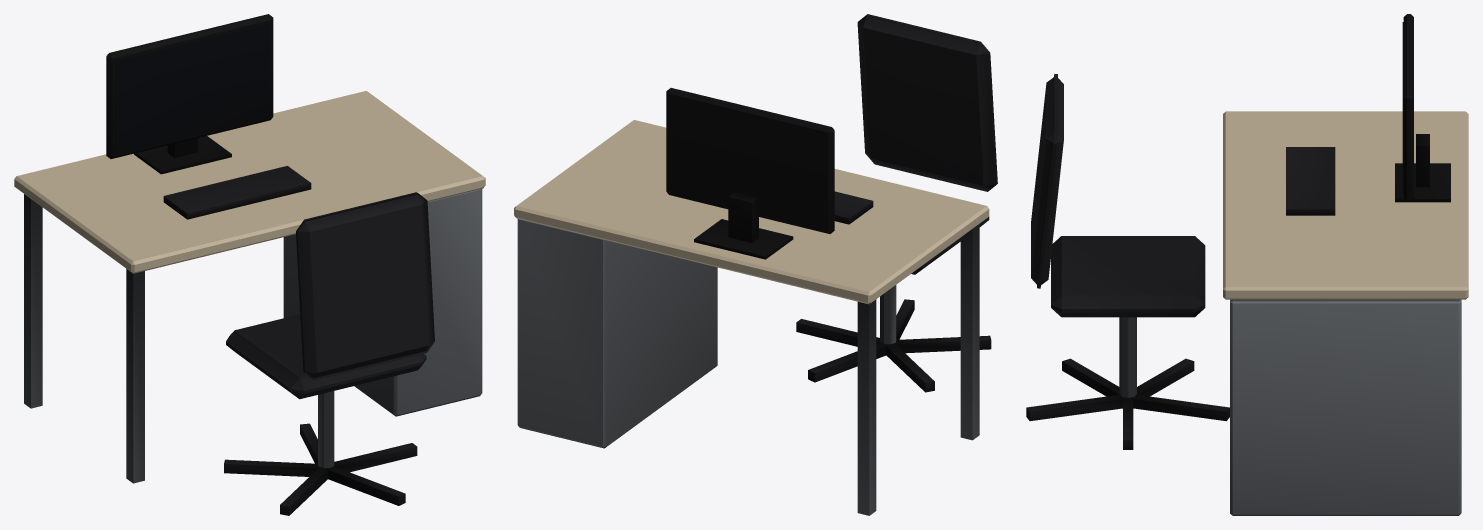
The model's file is prop.int.desk_pc.glb.
3 renders of one model, left to right at view 1: azimuth 30°, elevation 25°; view 2: azimuth 150°, elevation 25°; view 3: azimuth 270°, elevation 25°, orthographic. The views are drawn at different scales.
Parts seen in each view (by area): view 1: LOD0; view 2: LOD0; view 3: LOD0.
Part boxes in pixels (left/top/right/bottom): LOD0: left=14, top=14, right=485, bottom=515; LOD0: left=514, top=14, right=997, bottom=515; LOD0: left=1026, top=14, right=1468, bottom=515.
Size of what is drawn, in the model's own units: 1.2 by 1.14 by 1.26.
